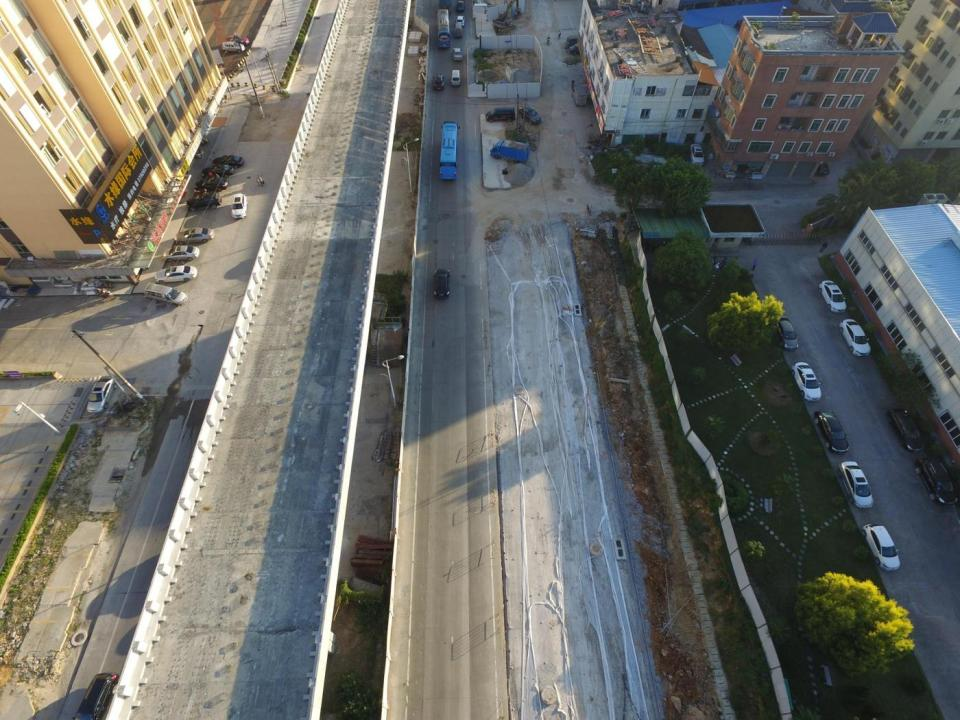bus: (439, 120, 459, 180)
car: (72, 669, 121, 720), (914, 456, 958, 504), (862, 523, 900, 571), (838, 461, 875, 509), (886, 408, 924, 453), (814, 408, 849, 454), (838, 318, 871, 357), (792, 362, 822, 402), (86, 375, 116, 414), (772, 315, 799, 351), (818, 280, 846, 312), (154, 264, 197, 282), (186, 192, 222, 211), (163, 244, 200, 262), (175, 228, 214, 244), (432, 268, 450, 299), (212, 154, 245, 169), (518, 105, 541, 125), (194, 178, 229, 191), (231, 193, 248, 218), (202, 165, 234, 177), (690, 143, 705, 166), (816, 152, 830, 176), (221, 40, 245, 53), (226, 34, 249, 46), (569, 43, 590, 54), (433, 74, 445, 92), (452, 47, 462, 62), (455, 14, 465, 27), (455, 0, 465, 13)
truck: (489, 139, 530, 164), (436, 8, 451, 49)
van: (143, 282, 189, 306), (485, 106, 515, 123), (566, 35, 584, 48), (450, 69, 462, 88), (453, 23, 463, 39)
